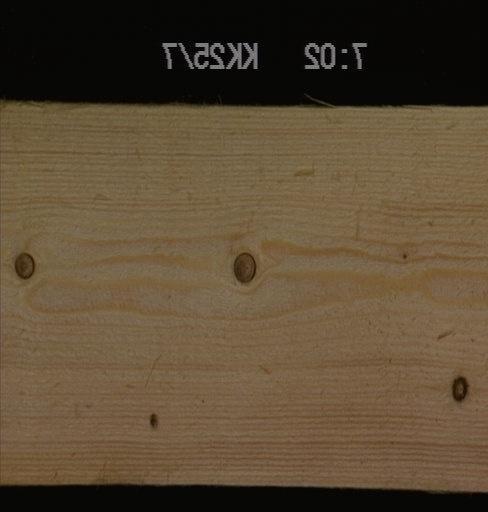dry_knot: (231, 249, 258, 285), (12, 248, 37, 280), (448, 373, 471, 403)
small_knot: (146, 409, 162, 429)
